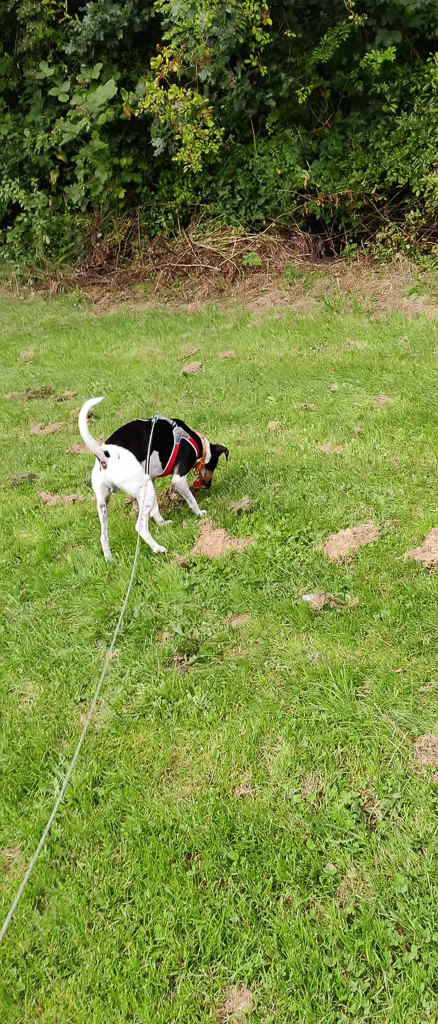Dog: (61, 388, 245, 573)
